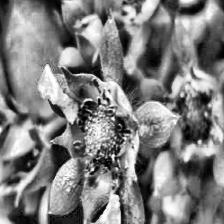Blossom Blight: (70, 76, 139, 195)
